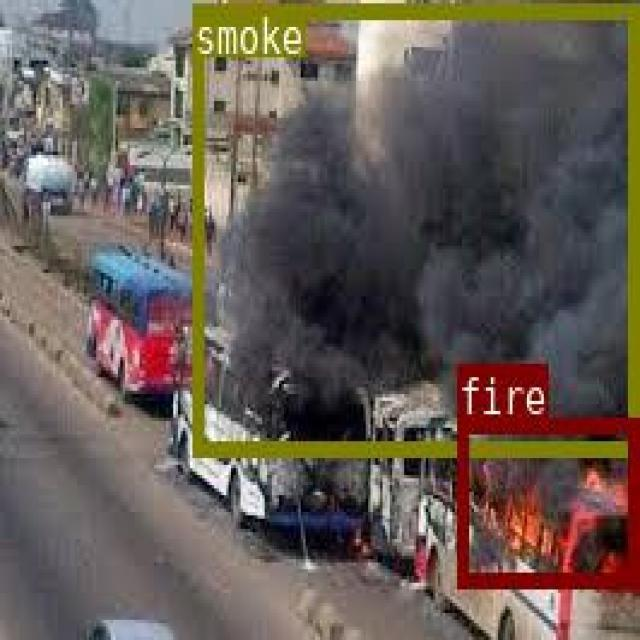fire: (456, 415, 636, 583)
smoke: (190, 3, 635, 451)
